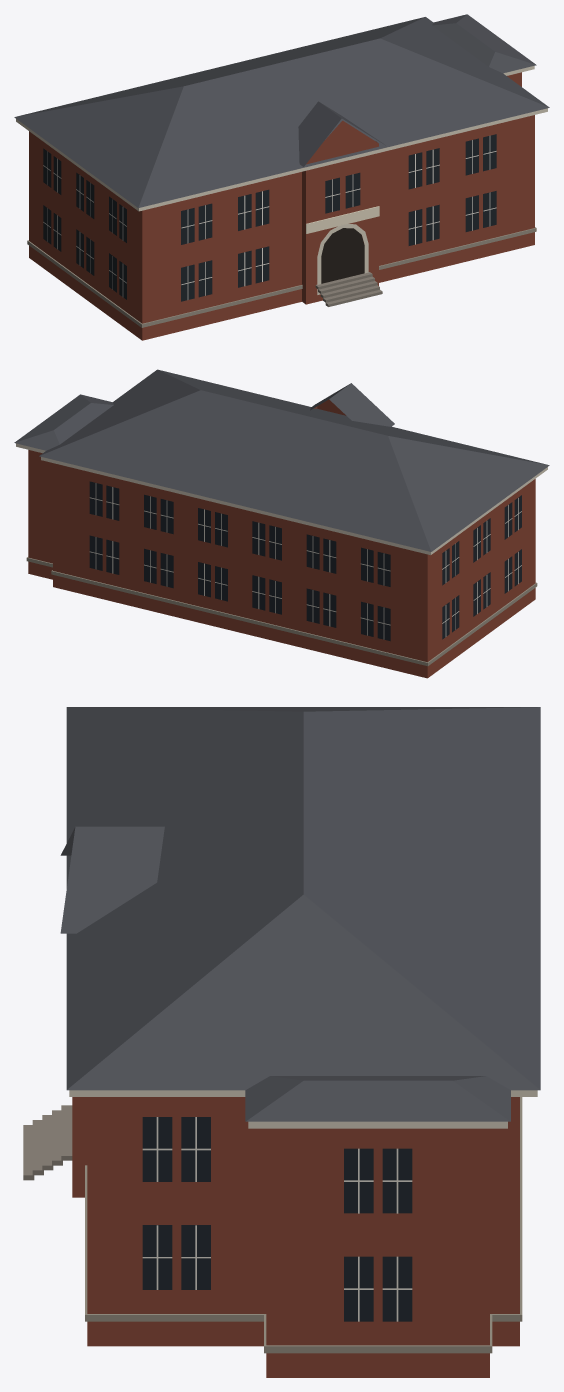
Rendered from olgc-parochial-school-1961.glb.
3 views of the same model, one above another, from view 1: azimuth 30°, elevation 25°; view 2: azimuth 150°, elevation 25°; view 3: azimuth 270°, elevation 25° (orthographic). The views are drawn at different scales.
Visible parts, largest first — view 1: olgc_brick, olgc_slate, olgc_glass, olgc_trim, olgc_stone, olgc_dark, olgc_sash, olgc_base, olgc_cream; view 2: olgc_brick, olgc_slate, olgc_glass, olgc_stone, olgc_sash, olgc_trim; view 3: olgc_slate, olgc_brick, olgc_glass, olgc_stone, olgc_trim, olgc_base, olgc_sash.
Part boxes in pixels (bbox=[...]): olgc_brick: bbox=[29, 72, 534, 340]; olgc_slate: bbox=[14, 14, 549, 207]; olgc_glass: bbox=[43, 134, 496, 301]; olgc_trim: bbox=[16, 66, 547, 294]; olgc_stone: bbox=[27, 227, 536, 327]; olgc_dark: bbox=[321, 228, 364, 283]; olgc_sash: bbox=[43, 136, 496, 299]; olgc_base: bbox=[315, 272, 382, 306]; olgc_cream: bbox=[306, 206, 379, 233]; olgc_brick: bbox=[28, 399, 535, 678]; olgc_slate: bbox=[14, 369, 549, 551]; olgc_glass: bbox=[89, 481, 521, 641]; olgc_stone: bbox=[26, 557, 537, 666]; olgc_sash: bbox=[89, 483, 521, 639]; olgc_trim: bbox=[16, 443, 547, 555]; olgc_slate: bbox=[60, 707, 540, 1121]; olgc_brick: bbox=[72, 1097, 519, 1377]; olgc_glass: bbox=[142, 1117, 412, 1321]; olgc_stone: bbox=[85, 1097, 522, 1353]; olgc_trim: bbox=[69, 1090, 537, 1128]; olgc_base: bbox=[23, 1105, 72, 1180]; olgc_sash: bbox=[142, 1117, 412, 1321].
Bounding box in the file's own units: 32.9 × 13.34 × 17.35.
